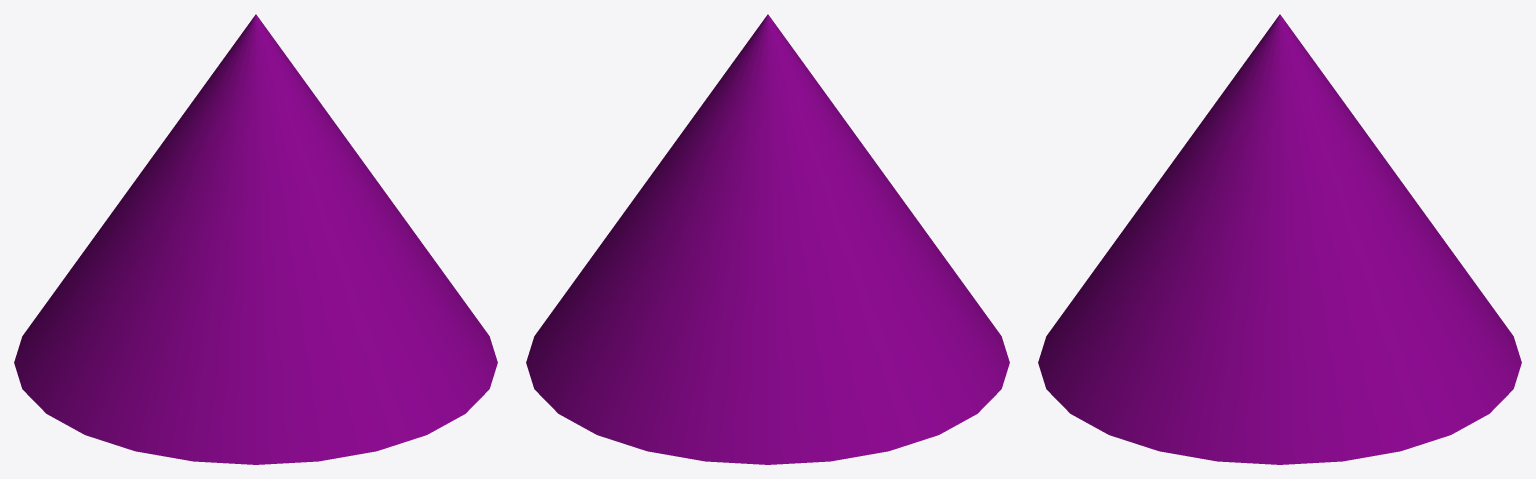
The picture shows the model from 3 angles, left to right: view 1: azimuth 30°, elevation 25°; view 2: azimuth 150°, elevation 25°; view 3: azimuth 270°, elevation 25°; orthographic projection.
Visible parts, largest first — view 1: Cone001; view 2: Cone001; view 3: Cone001.
Part boxes in pixels (<box>): Cone001: <box>14,14,497,464</box>; Cone001: <box>526,14,1009,464</box>; Cone001: <box>1038,14,1521,464</box>.
Size of the model in its own units: 29.37 by 23.36 by 29.37.
